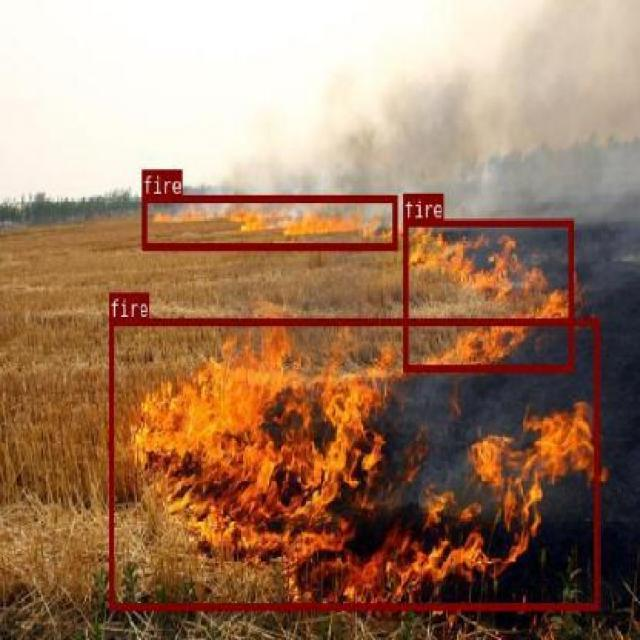Fire: (107, 316, 598, 610), (402, 218, 573, 371), (141, 194, 397, 248)
Smoke: (221, 0, 636, 226)
